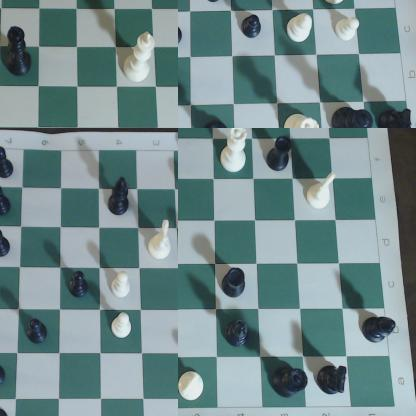black-bishop: (362, 311, 397, 347), (108, 176, 132, 218), (229, 316, 254, 354)
black-king: (3, 22, 42, 83), (333, 106, 377, 128)
black-knight: (318, 364, 349, 398), (375, 105, 416, 128)
black-pawn: (239, 13, 266, 47), (23, 319, 51, 347), (69, 269, 92, 301), (1, 143, 19, 181), (1, 183, 15, 218), (1, 228, 14, 262), (179, 17, 189, 52), (1, 363, 8, 391), (205, 1, 227, 8)
black-queen: (273, 366, 312, 403)
black-rook: (265, 136, 294, 174), (222, 265, 249, 303)
white-bishop: (288, 14, 314, 49)
white-king: (124, 31, 157, 87)
white-knight: (306, 176, 339, 214), (151, 219, 176, 259), (179, 370, 207, 404)
white-pawn: (336, 16, 367, 47), (109, 270, 133, 299), (112, 311, 134, 342)
white-queen: (214, 129, 251, 178), (278, 109, 322, 128)
